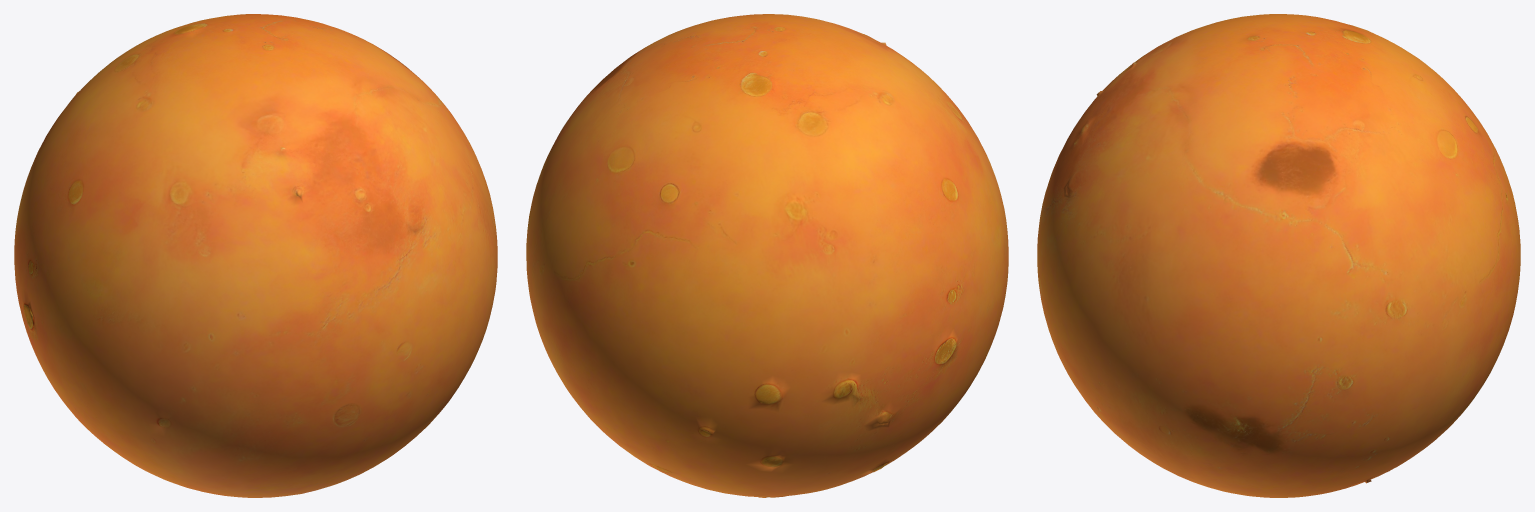
Rendered from star_planet.glb.
3 renders of one model, left to right at view 1: azimuth 30°, elevation 25°; view 2: azimuth 150°, elevation 25°; view 3: azimuth 270°, elevation 25°, orthographic.
Size of the model in its own units: 2 by 2 by 2.
1 material, 1 textured.
